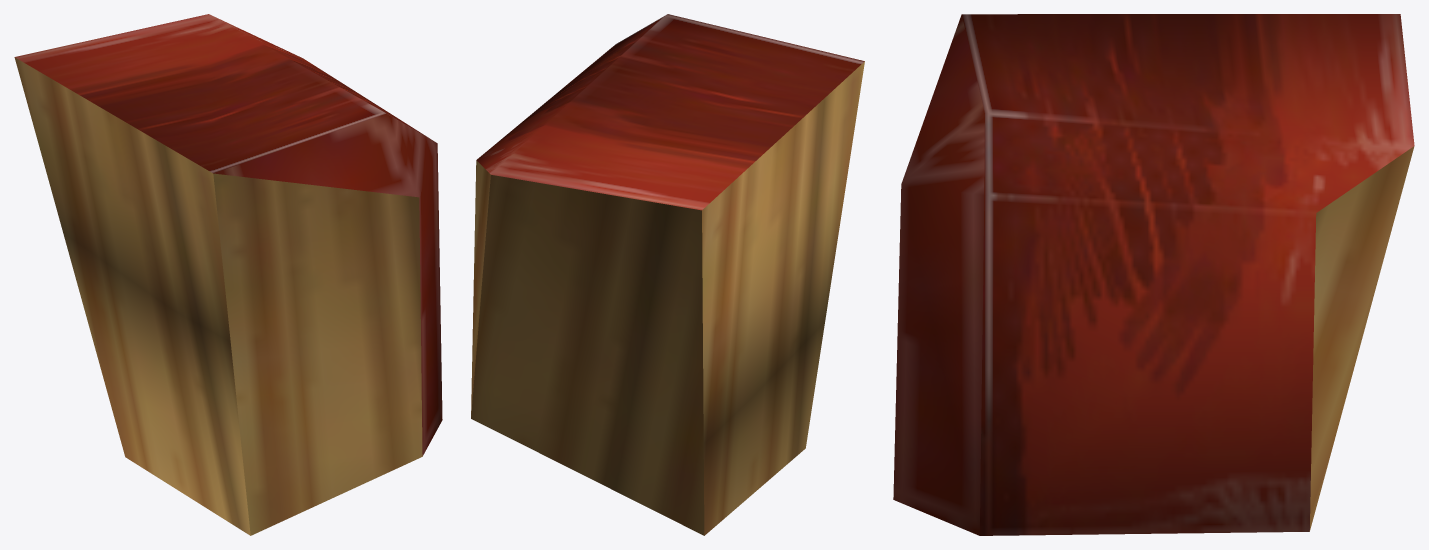
Rendered from Skill_Cowboy_01_Broken_02_bcd5f2b0__Skill_Cowboy_01_Broken_4a527cb7_c1f257.obj.
The picture shows the model from 3 angles, left to right: view 1: azimuth 30°, elevation 25°; view 2: azimuth 150°, elevation 25°; view 3: azimuth 270°, elevation 25°; orthographic projection. The views are drawn at different scales.
Size of the model in its own units: 0.3813 by 0.542 by 0.5349.
1 material, 1 textured.
